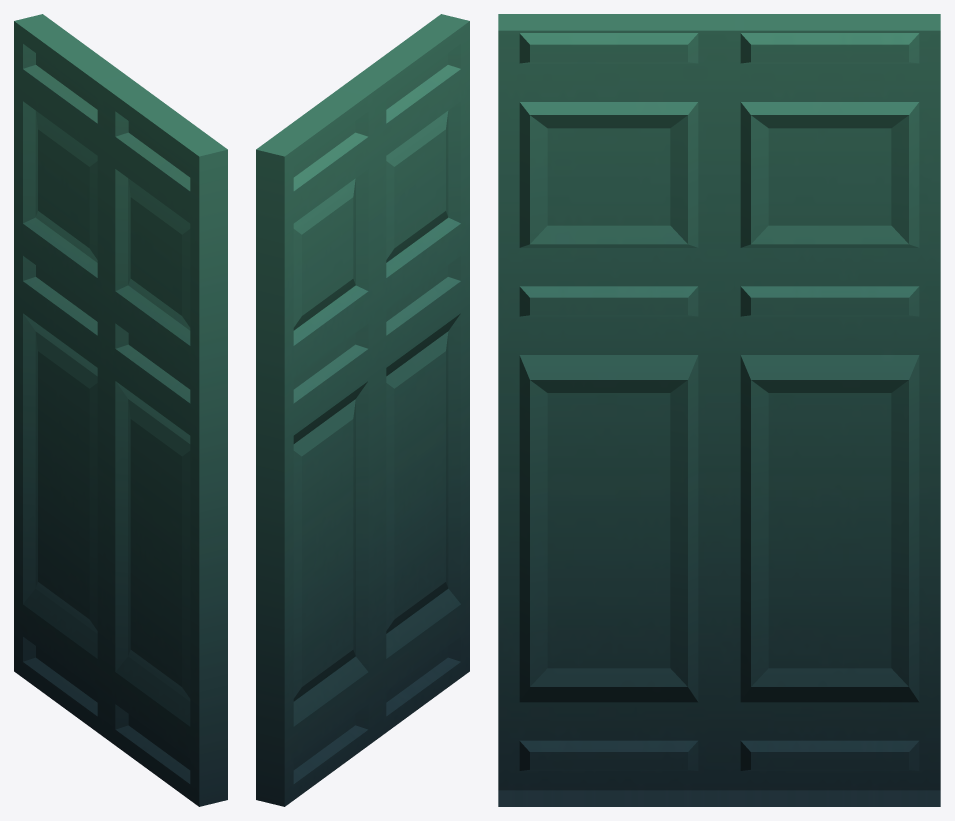
Rendered from Panteon_Puerta.fbx.
3 renders of one model, left to right at view 1: azimuth 30°, elevation 25°; view 2: azimuth 150°, elevation 25°; view 3: azimuth 270°, elevation 25°, orthographic. The views are drawn at different scales.
Visible parts, largest first — view 1: Panteon_Puerta; view 2: Panteon_Puerta; view 3: Panteon_Puerta.
Part boxes in pixels (bbox=[...]): Panteon_Puerta: bbox=[14, 14, 227, 806]; Panteon_Puerta: bbox=[256, 14, 469, 806]; Panteon_Puerta: bbox=[498, 14, 940, 806].
Bounding box in the file's own units: 1.98 × 42.89 × 22.14.
